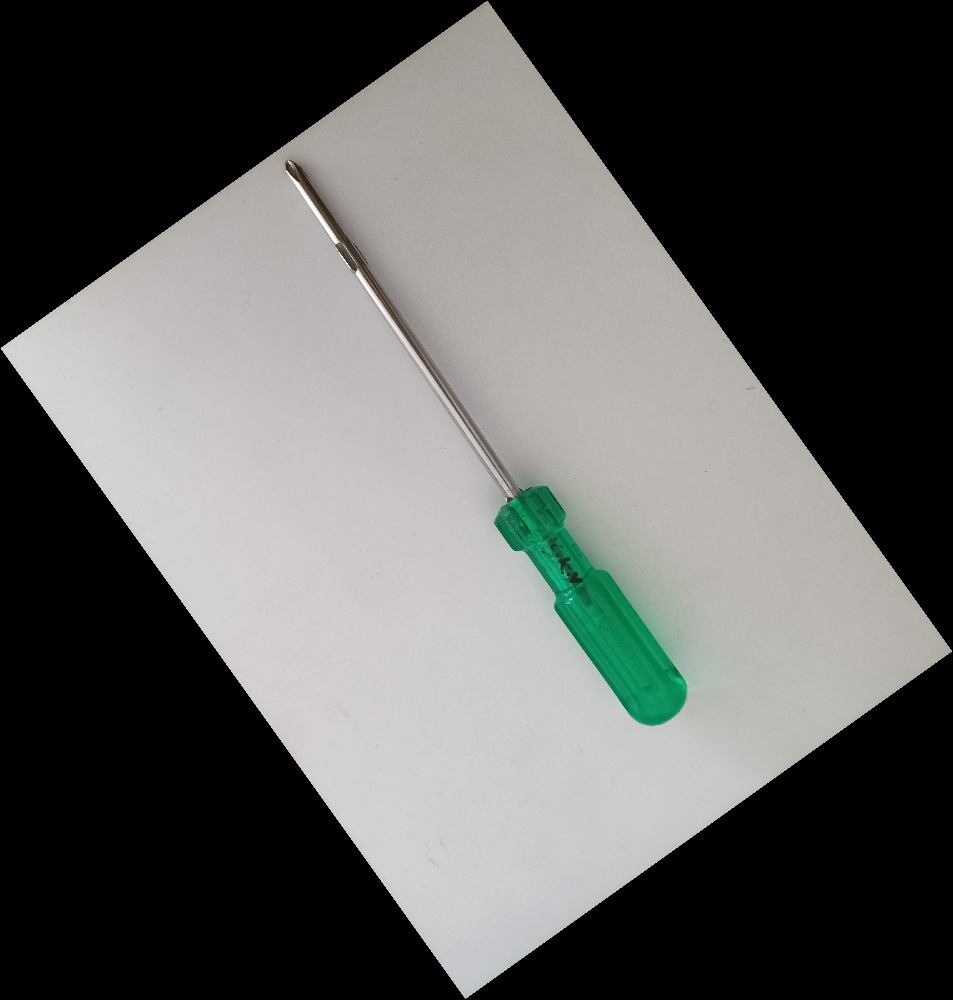screwdriver: (275, 154, 690, 728)
